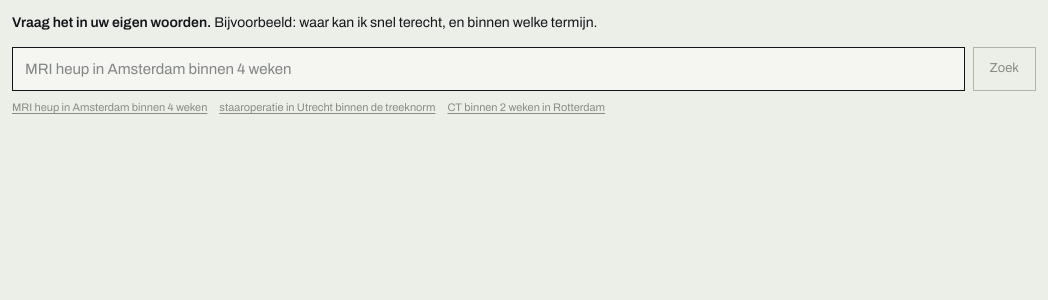
Test: Assistant › says so when nothing meets the deadline instead of showing the nearest thing
This screenshot has width=1048, height=300.
In the field labelled "Vraag het in uw eigen woorden": point(488, 69) [12,47,964,91], type "MRI heup Amsterdam"
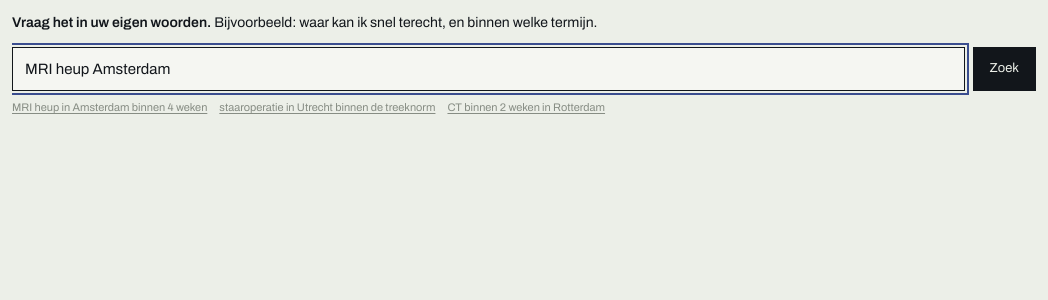
Click the button "Zoek": point(1004, 69) [972,47,1036,91]
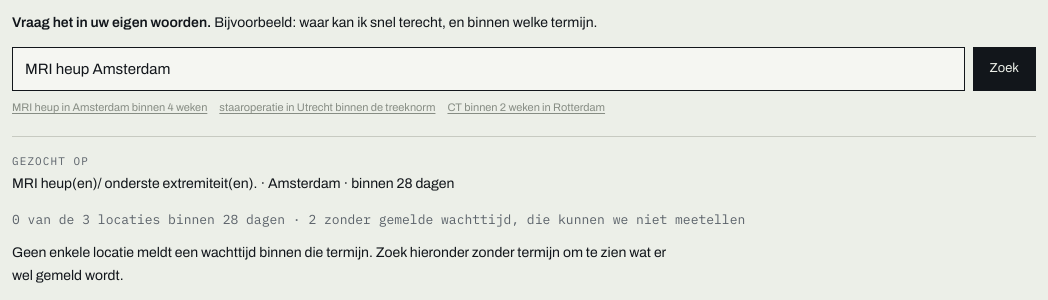
Result: the text "Geen enkele locatie meldt een wachttijd binnen die termijn" is shown at [12,245,666,283]
